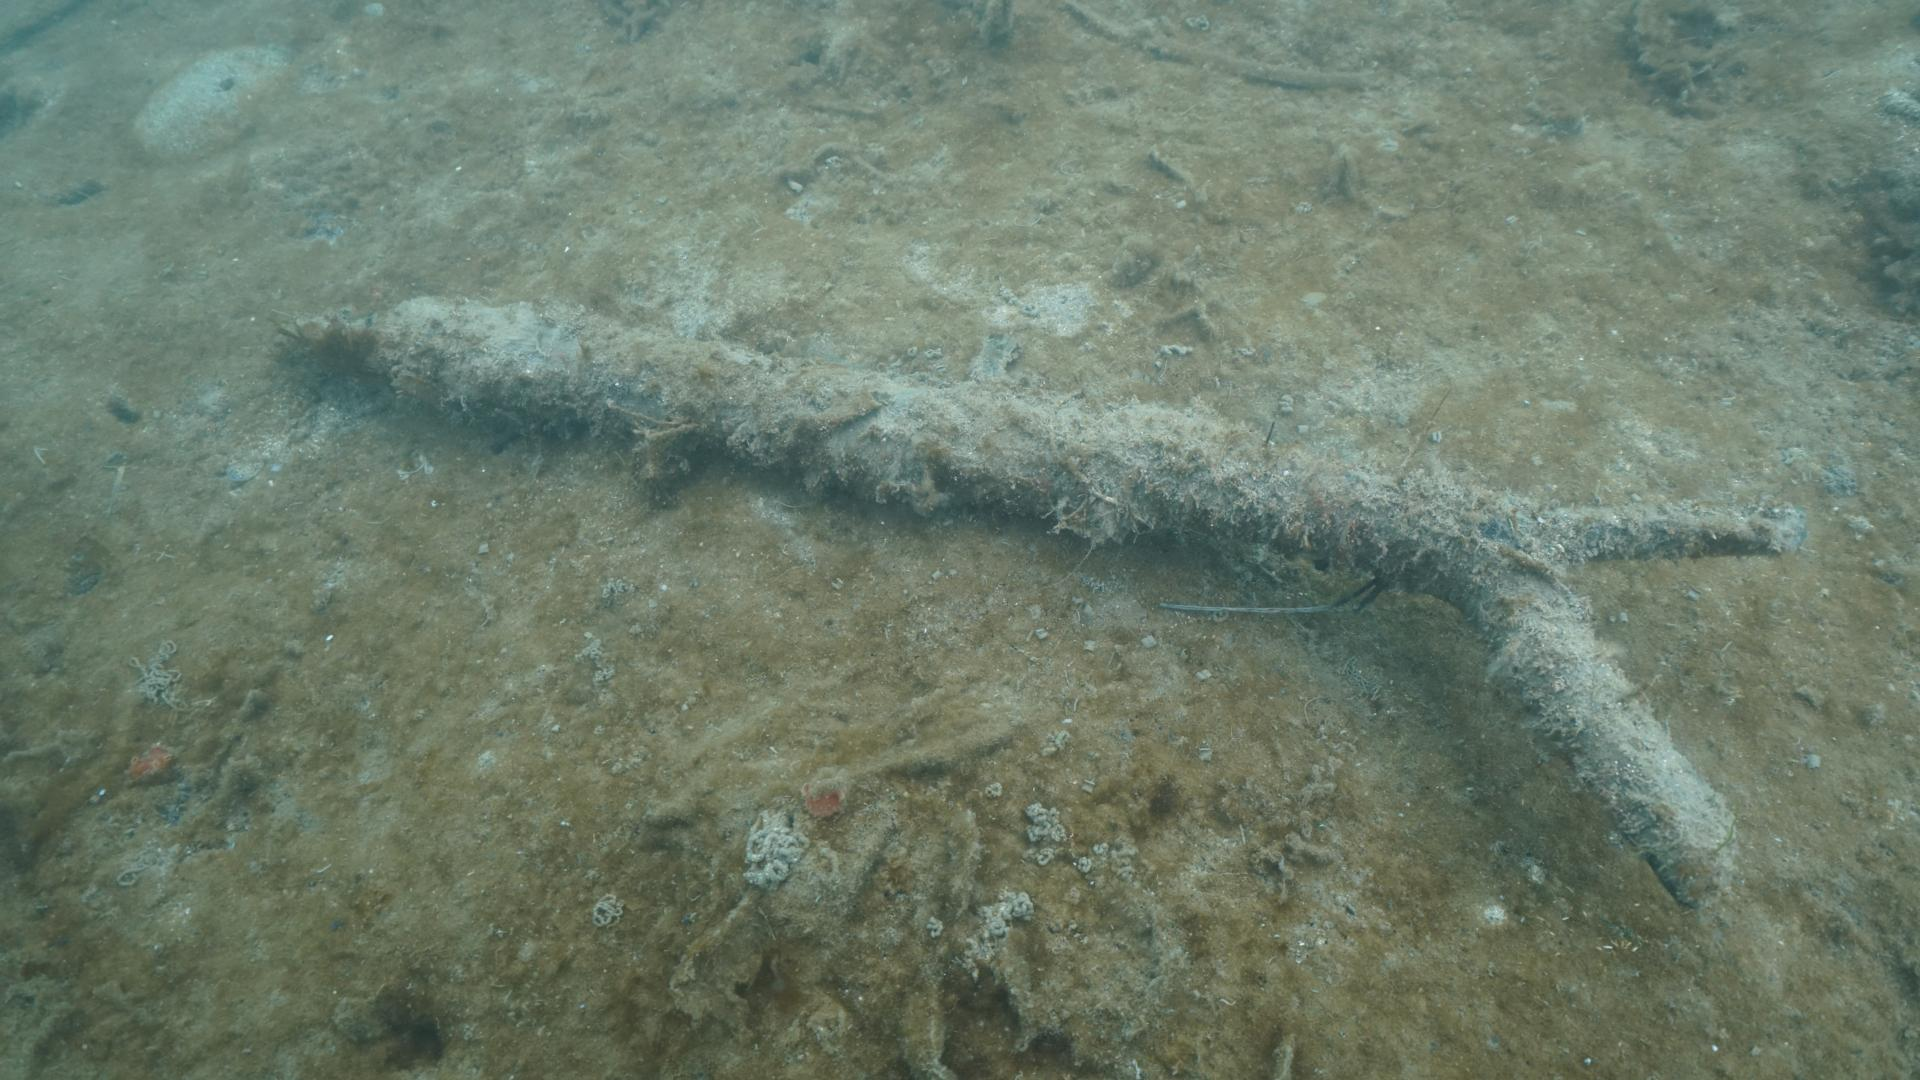wood: (351, 295, 1804, 916)
